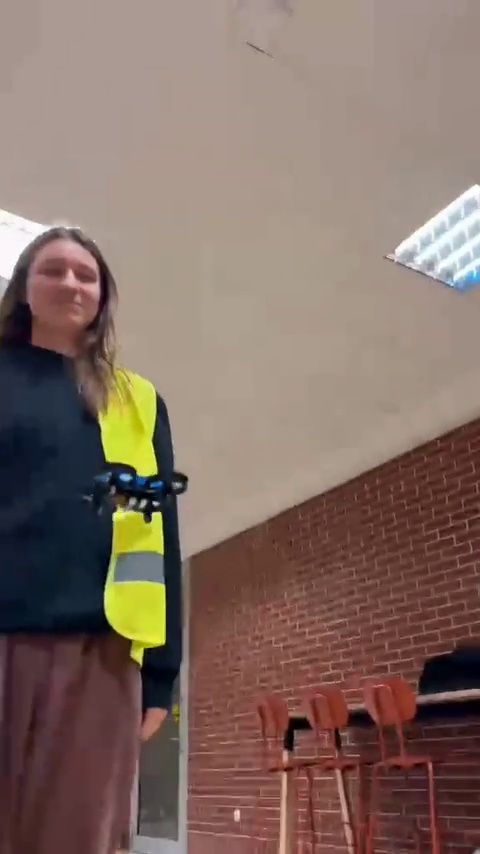drone: (74, 461, 195, 518)
vest: (9, 228, 194, 847)
